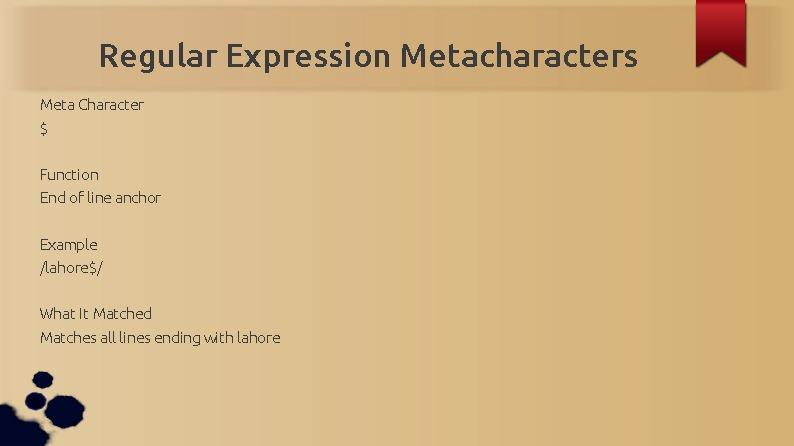paragraph: (21, 90, 447, 356)
title: (93, 29, 652, 86)
